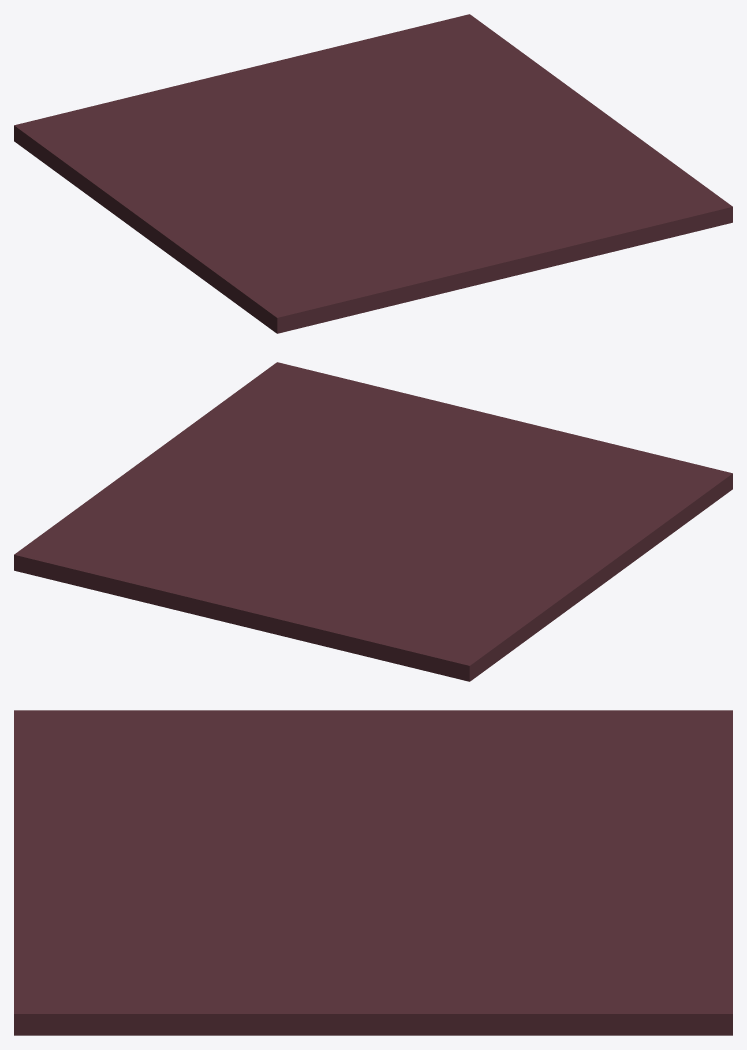
File: empire-pavement-mosaic-3x3m-wave-corner-empire.glb
3 renders of one model, top to bottom at view 1: azimuth 30°, elevation 25°; view 2: azimuth 150°, elevation 25°; view 3: azimuth 270°, elevation 25°, orthographic. The views are drawn at different scales.
Parts seen in each view (by area): view 1: SM_Pavement_Mosaic_3x3m_Wave_Corner_Empire; view 2: SM_Pavement_Mosaic_3x3m_Wave_Corner_Empire; view 3: SM_Pavement_Mosaic_3x3m_Wave_Corner_Empire.
Part boxes in pixels (x1=…): SM_Pavement_Mosaic_3x3m_Wave_Corner_Empire: x1=14, y1=14, x2=732, y2=333; SM_Pavement_Mosaic_3x3m_Wave_Corner_Empire: x1=14, y1=362, x2=732, y2=681; SM_Pavement_Mosaic_3x3m_Wave_Corner_Empire: x1=14, y1=710, x2=732, y2=1035.
Size of the model in its own units: 3 by 0.1002 by 3.
